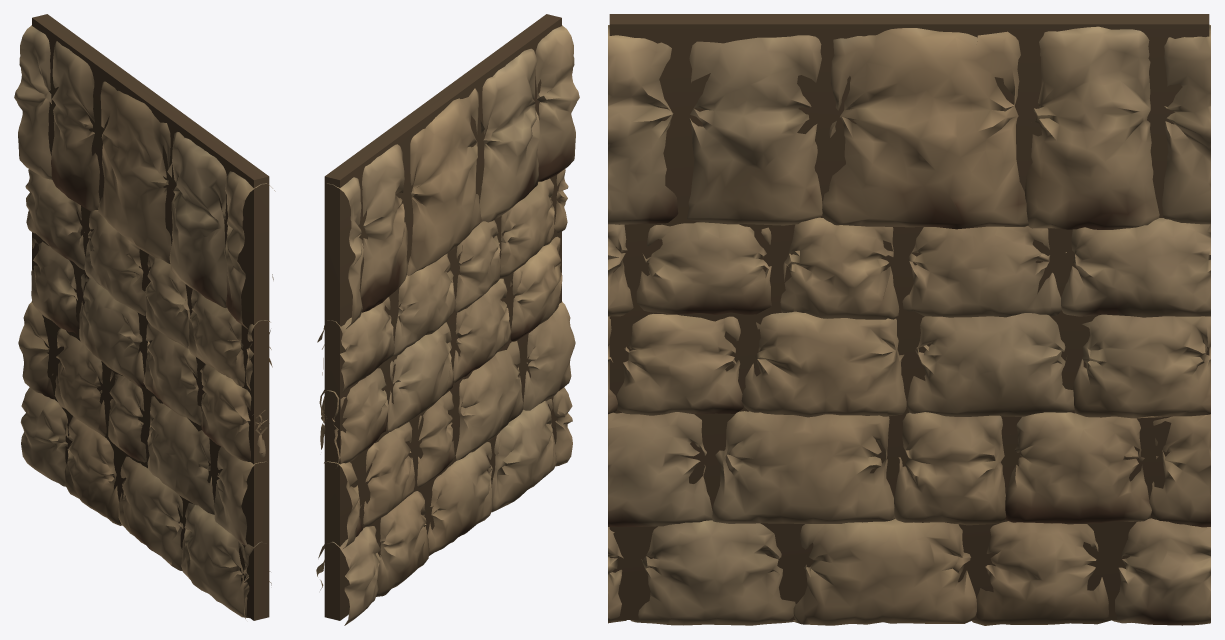
Rendered from canopy_sack_wall.glb.
The picture shows the model from 3 angles, left to right: view 1: azimuth 30°, elevation 25°; view 2: azimuth 150°, elevation 25°; view 3: azimuth 270°, elevation 25°; orthographic projection. The views are drawn at different scales.
Visible parts, largest first — view 1: canopy_sack_wall; view 2: canopy_sack_wall; view 3: canopy_sack_wall.
Boxes of the visible parts, x1,y1,x2,y2 form: canopy_sack_wall: (14, 14, 275, 620); canopy_sack_wall: (316, 14, 579, 625); canopy_sack_wall: (608, 14, 1210, 625).
Size of the model in its own units: 5.58 by 44.06 by 40.
